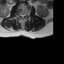CCS_stenosis: (21, 12, 23, 20)
LFS_normal: (25, 12, 26, 17)
LLS_stenosis: (23, 12, 25, 18)
RFS_normal: (17, 12, 19, 17)
RLS_stenosis: (19, 12, 21, 18)
